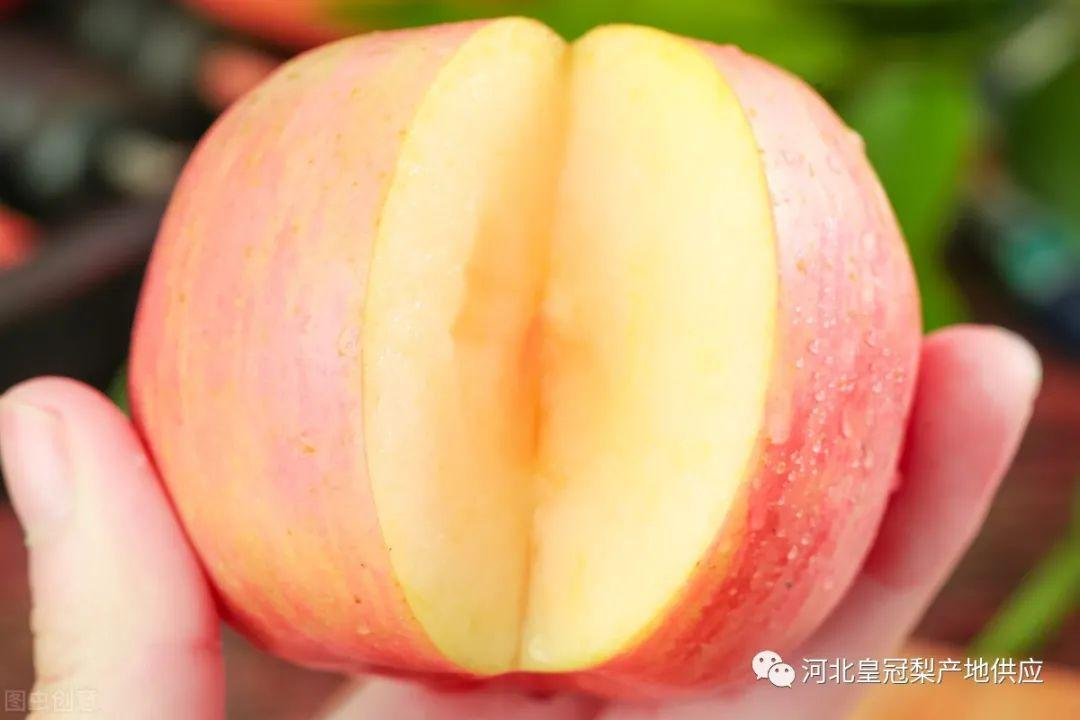apple: (132, 11, 925, 703)
